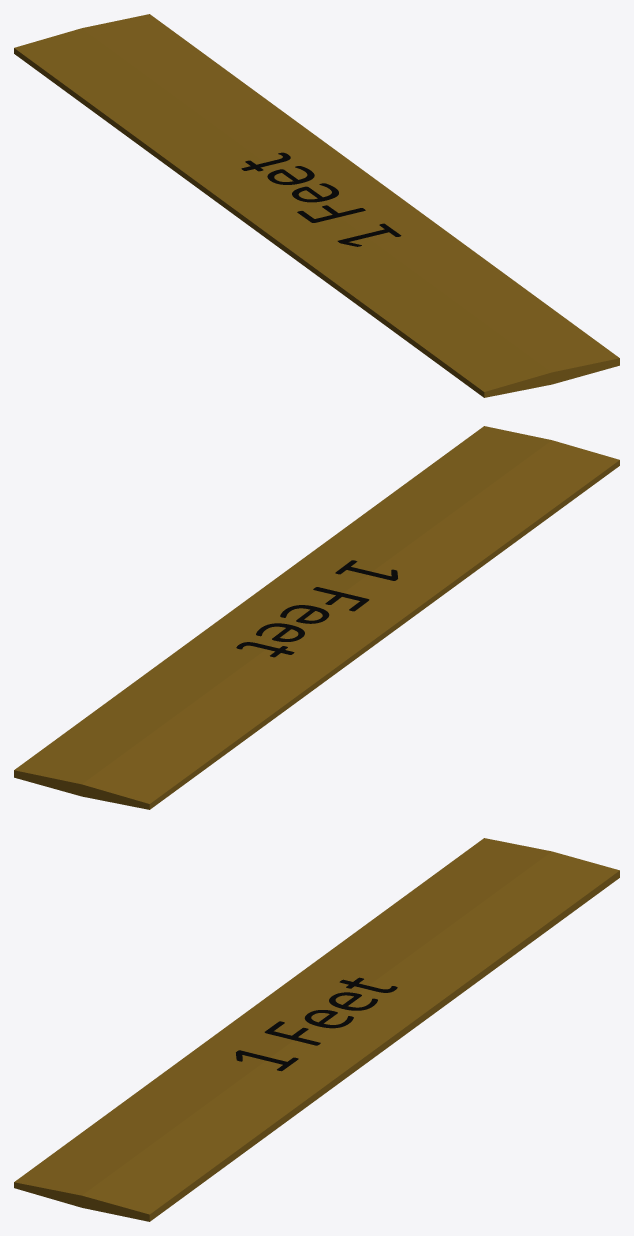
The model's file is feet1.gltf.
3 renders of one model, top to bottom at view 1: azimuth 30°, elevation 25°; view 2: azimuth 150°, elevation 25°; view 3: azimuth 330°, elevation 25°, orthographic.
Parts seen in each view (by area): view 1: Cube, 1 Feet; view 2: Cube, 1 Feet; view 3: Cube, 1 Feet.
Part boxes in pixels (<box>): Cube: <box>14,14,619,397</box>; 1 Feet: <box>241,152,401,246</box>; Cube: <box>14,426,619,809</box>; 1 Feet: <box>236,560,397,657</box>; Cube: <box>14,838,619,1221</box>; 1 Feet: <box>236,977,397,1071</box>.
Size of the model in its own units: 1 by 0.1024 by 6.
